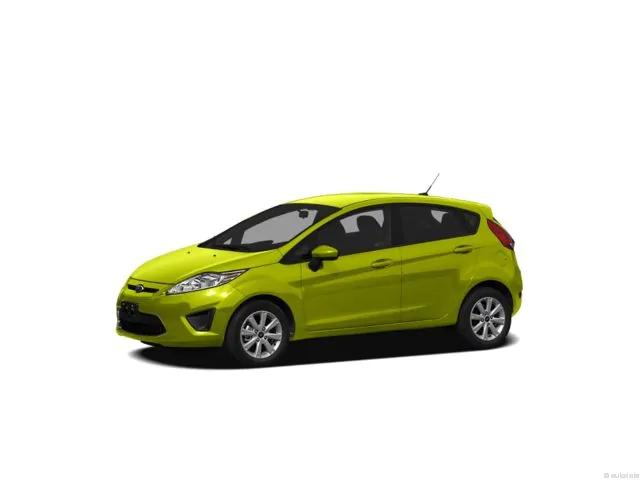Toyota Prius: (113, 191, 525, 369)
